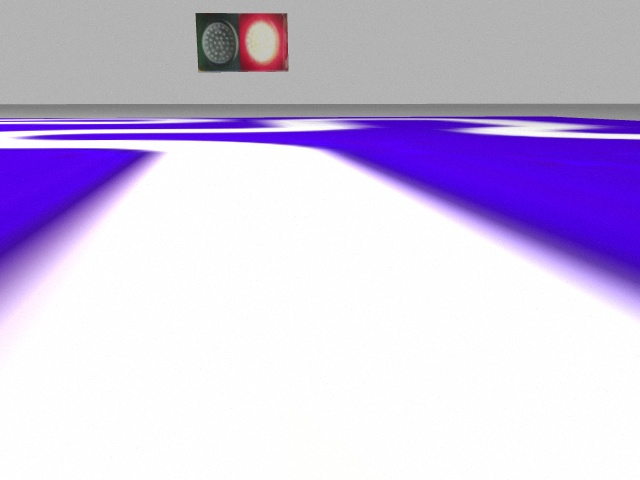red: (238, 15, 288, 71)
